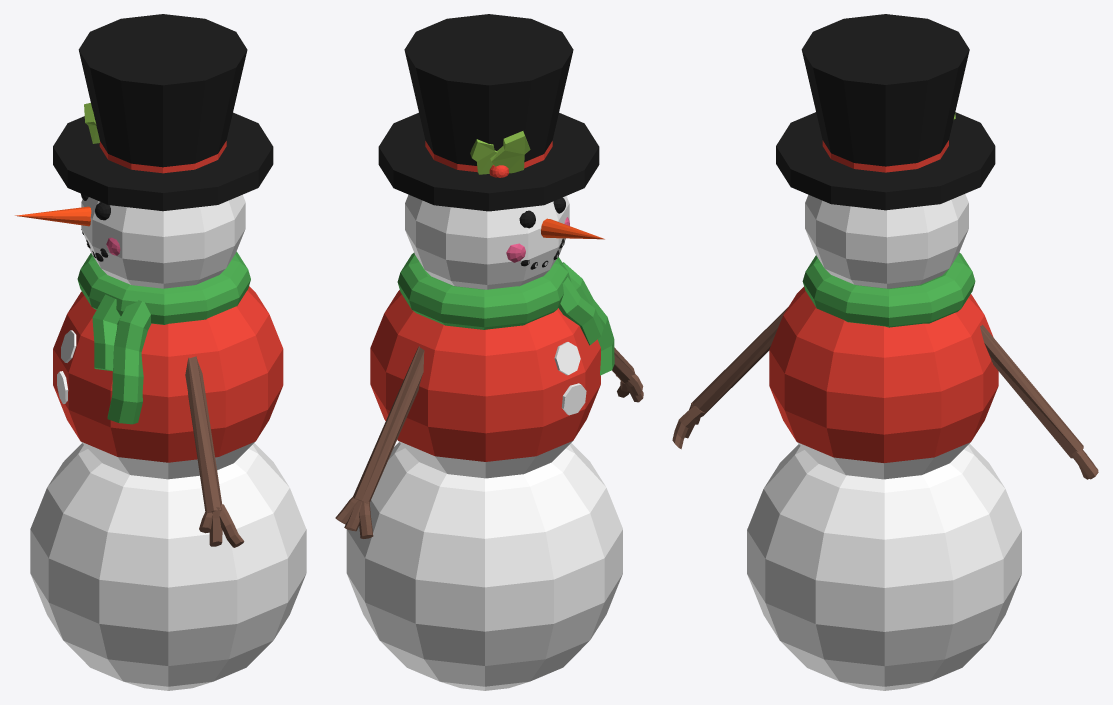
Rendered from scene_3dyfHBpGpr.glb.
3 views of the same model, side by side, from view 1: azimuth 30°, elevation 25°; view 2: azimuth 150°, elevation 25°; view 3: azimuth 270°, elevation 25° (orthographic).
Visible parts, largest first — view 1: group1522281990, group396693100, group24528579, group782497130, group818336702, group708977906, group927813173, group148953620, group53042870, group1128189315, group1901817716; view 2: group1522281990, group396693100, group24528579, group782497130, group818336702, group708977906, group62286769, group53042870, group927813173, group603932705, group1128189315, group1167757391 (+2 smaller); view 3: group1522281990, group396693100, group24528579, group818336702, group782497130, group708977906, group62286769, group148953620.
Boxes of the visible parts, box(x1,y1,x2,y2) form: group1522281990: box(30, 443, 306, 690); group396693100: box(53, 286, 283, 479); group24528579: box(78, 14, 247, 173); group782497130: box(53, 112, 273, 211); group818336702: box(81, 195, 245, 288); group708977906: box(77, 251, 250, 324); group927813173: box(107, 300, 151, 424); group148953620: box(185, 356, 222, 512); group53042870: box(92, 294, 120, 371); group1128189315: box(15, 206, 91, 226); group1901817716: box(219, 504, 244, 547); group1522281990: box(346, 442, 622, 690); group396693100: box(370, 290, 600, 478); group24528579: box(404, 14, 573, 172); group782497130: box(378, 112, 599, 211); group818336702: box(405, 194, 569, 289); group708977906: box(397, 253, 571, 329); group62286769: box(353, 346, 424, 503); group53042870: box(558, 276, 603, 345); group927813173: box(562, 262, 614, 375); group603932705: box(490, 131, 530, 173); group1128189315: box(541, 218, 604, 239); group1167757391: box(554, 342, 580, 375); group1522281990: box(747, 443, 1021, 690); group396693100: box(769, 287, 998, 479); group24528579: box(801, 14, 969, 172); group818336702: box(805, 194, 968, 288); group782497130: box(776, 112, 995, 210); group708977906: box(802, 252, 975, 327); group62286769: box(980, 324, 1083, 458); group148953620: box(690, 307, 787, 417).
Size of the model in its own units: 0.4444 by 1.04 by 0.6411.
